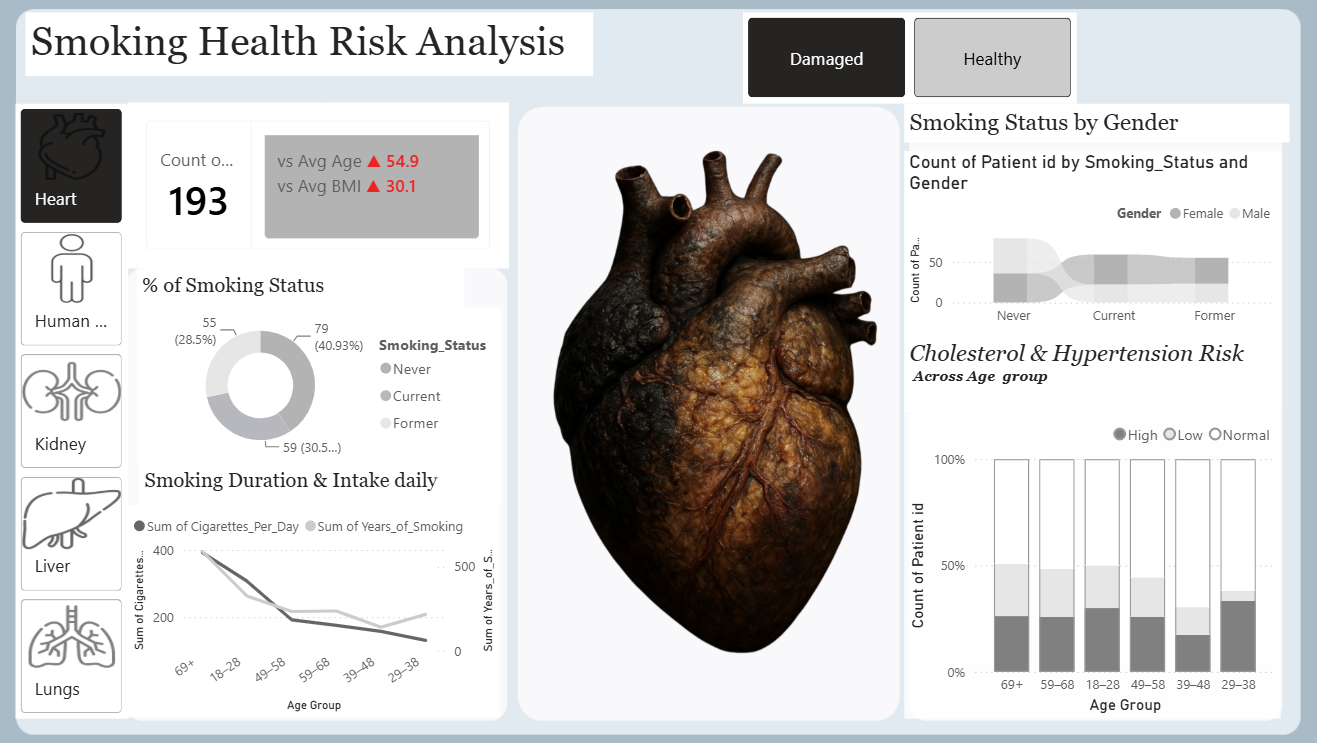

What the dashboard file says about the page in this screenshot:
{"tool":"powerbi","page":{"name":"Page 1","canvas":[1280,720],"ordinal":0},"visuals":[{"type":"textbox","box":[48.8,20.9,527.9,59.3],"z":0},{"type":"ribbonChart","fields":{"Category":["health_dataset.Smoking_Status"],"Y":["CountNonNull(health_dataset.Patient_ID)"],"Series":["health_dataset.Gender"]},"box":[866.3,150,350,170.9],"z":1000},{"type":"donutChart","fields":{"Y":["CountNonNull(health_dataset.Patient_ID)"],"Category":["health_dataset.Smoking_Status"]},"box":[152.3,295.3,338.4,145.3],"z":2000},{"type":"lineChart","fields":{"Y2":["Sum(health_dataset.Years_of_Smoking)"],"Y":["Sum(health_dataset.Cigarettes_Per_Day)"],"Category":["health_dataset.Age Group"]},"box":[144.2,479.1,346.5,197.7],"z":3000},{"type":"textbox","box":[152.5,258.8,305,36.2],"z":4000},{"type":"textbox","box":[866.3,105.8,358.1,36],"z":6000},{"type":"textbox","box":[866.3,320.9,350,72.1],"z":7000},{"type":"hundredPercentStackedColumnChart","fields":{"Category":["health_dataset.Age Group"],"Y":["CountNonNull(health_dataset.Patient_ID)"],"Series":["health_dataset.BP_Risk"]},"box":[866.2,392.5,350,285],"z":8000},{"type":"textbox","box":[154.7,440.7,336,38.4],"z":9000},{"type":"advancedSlicerVisual","fields":{"Values":["Organs.Organ"]},"box":[39.5,105.8,104.7,572.1],"z":10000},{"type":"image","box":[514,101.2,352.3,575.6],"z":11000},{"type":"cardVisual","fields":{"Data":["CountNonNull(health_dataset.Patient_ID)"]},"box":[144.4,104.4,354.4,154.4],"z":12000},{"type":"advancedSlicerVisual","fields":{"Values":["health_dataset.Organ_Condition"]},"box":[716.3,20.9,310.5,84.9],"z":13000}]}

Visuals, with their boxes in screenshot pixels (x1, y1, x2, y2), scaled from the page's 1280x720 canvas onto the 1317x743 screenshot:
textbox: detection(50, 22, 593, 83)
ribbonChart - health_dataset.Smoking_Status x CountNonNull(health_dataset.Patient_ID): detection(891, 155, 1251, 331)
donutChart - CountNonNull(health_dataset.Patient_ID) x health_dataset.Smoking_Status: detection(157, 305, 505, 455)
lineChart - Sum(health_dataset.Years_of_Smoking) x Sum(health_dataset.Cigarettes_Per_Day): detection(148, 494, 505, 698)
textbox: detection(157, 267, 471, 304)
textbox: detection(891, 109, 1260, 146)
textbox: detection(891, 331, 1251, 406)
hundredPercentStackedColumnChart - health_dataset.Age Group x CountNonNull(health_dataset.Patient_ID): detection(891, 405, 1251, 699)
textbox: detection(159, 455, 505, 494)
advancedSlicerVisual - Organs.Organ: detection(41, 109, 148, 700)
image: detection(529, 104, 891, 698)
cardVisual - CountNonNull(health_dataset.Patient_ID): detection(149, 108, 513, 267)
advancedSlicerVisual - health_dataset.Organ_Condition: detection(737, 22, 1056, 109)
